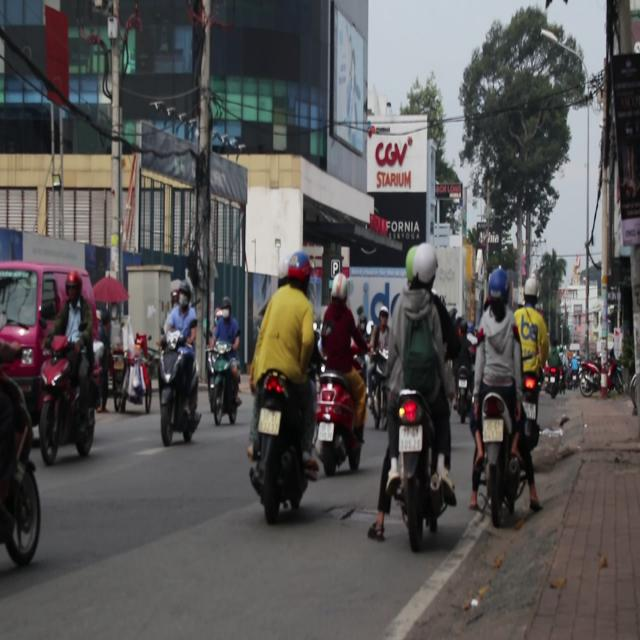motorbike: (372, 382, 449, 550), (248, 364, 308, 526), (36, 322, 100, 464), (0, 351, 41, 570), (472, 391, 532, 520), (314, 368, 366, 477), (153, 343, 201, 454), (211, 346, 245, 434), (579, 363, 601, 397)
truck: (1, 259, 103, 420)
